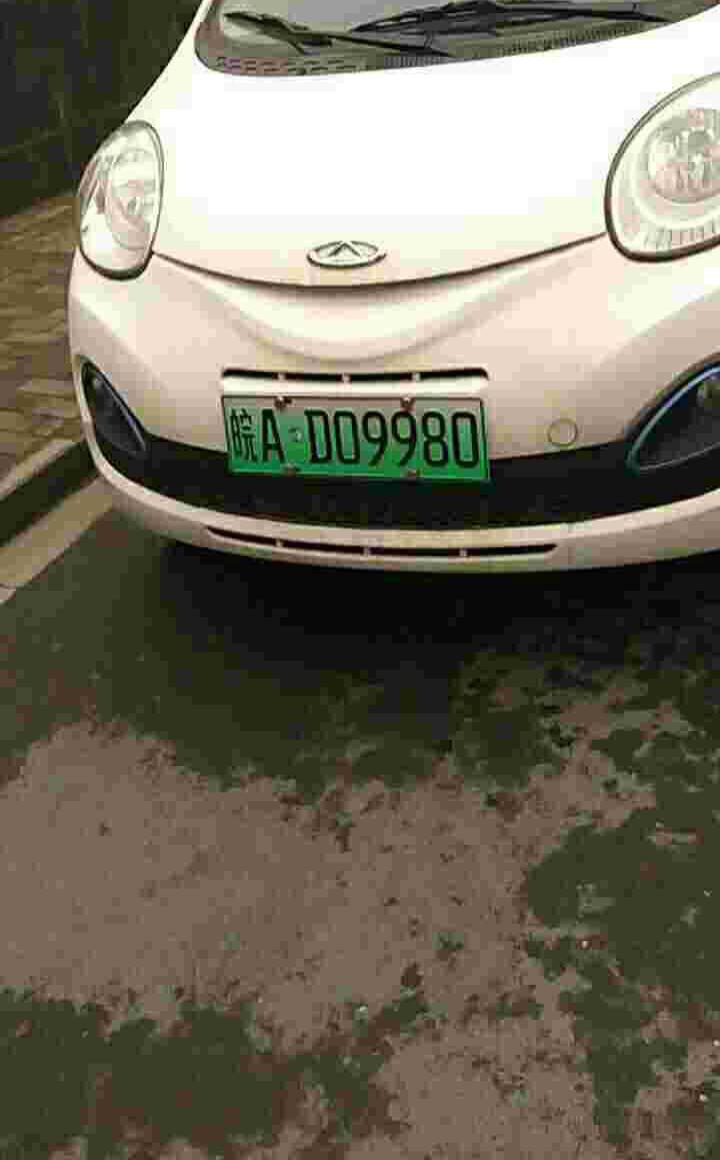car: (199, 383, 498, 490)
